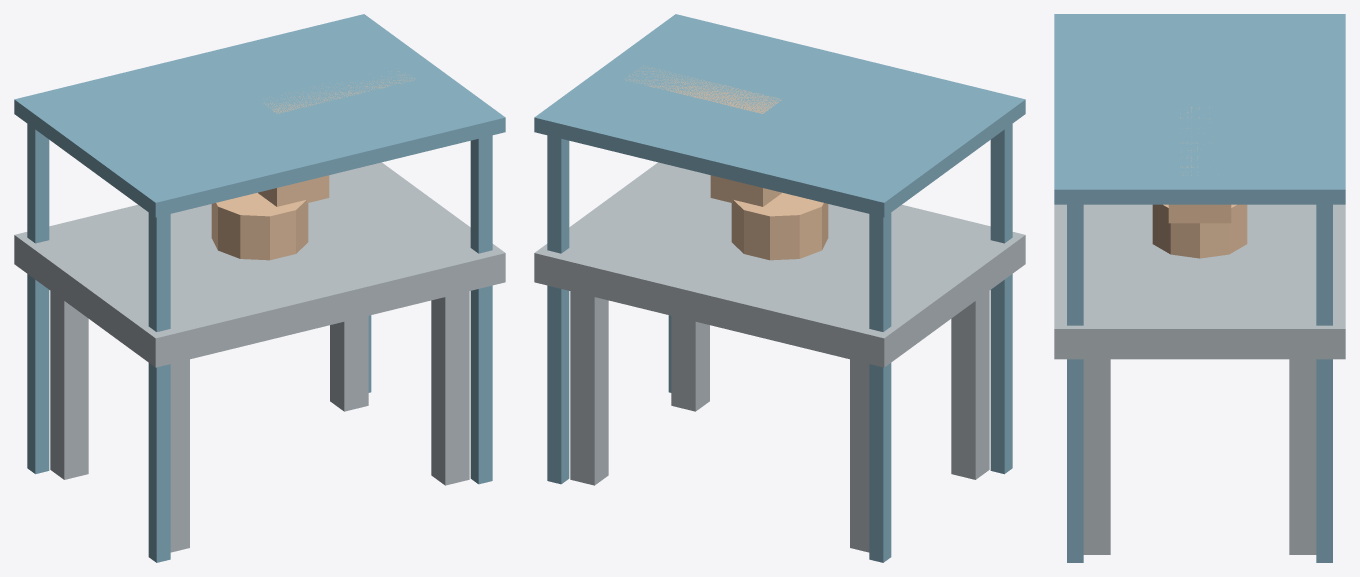
File: robot_cell.glb
3 views of the same model, side by side, from view 1: azimuth 30°, elevation 25°; view 2: azimuth 150°, elevation 25°; view 3: azimuth 270°, elevation 25° (orthographic). The views are drawn at different scales.
Bounding box in the file's own units: 1 × 1 × 0.7.
